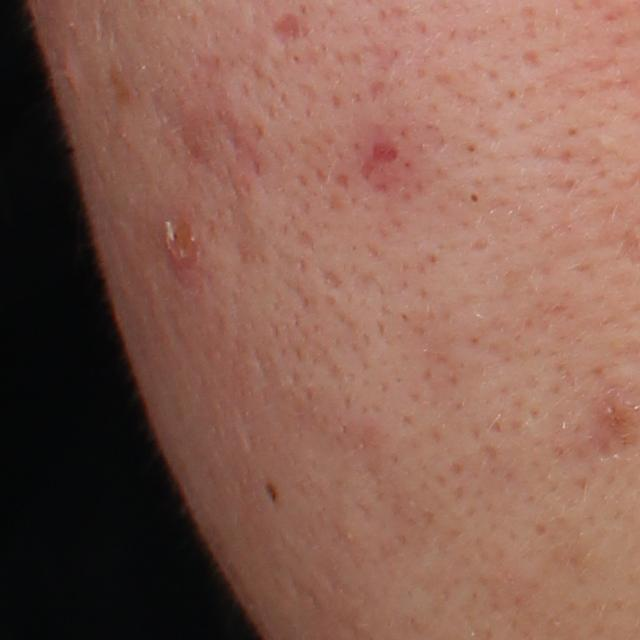atrophic_scar: (266, 7, 301, 50), (367, 140, 398, 164)
comedo: (461, 188, 485, 210)
nevus: (264, 480, 283, 506)
